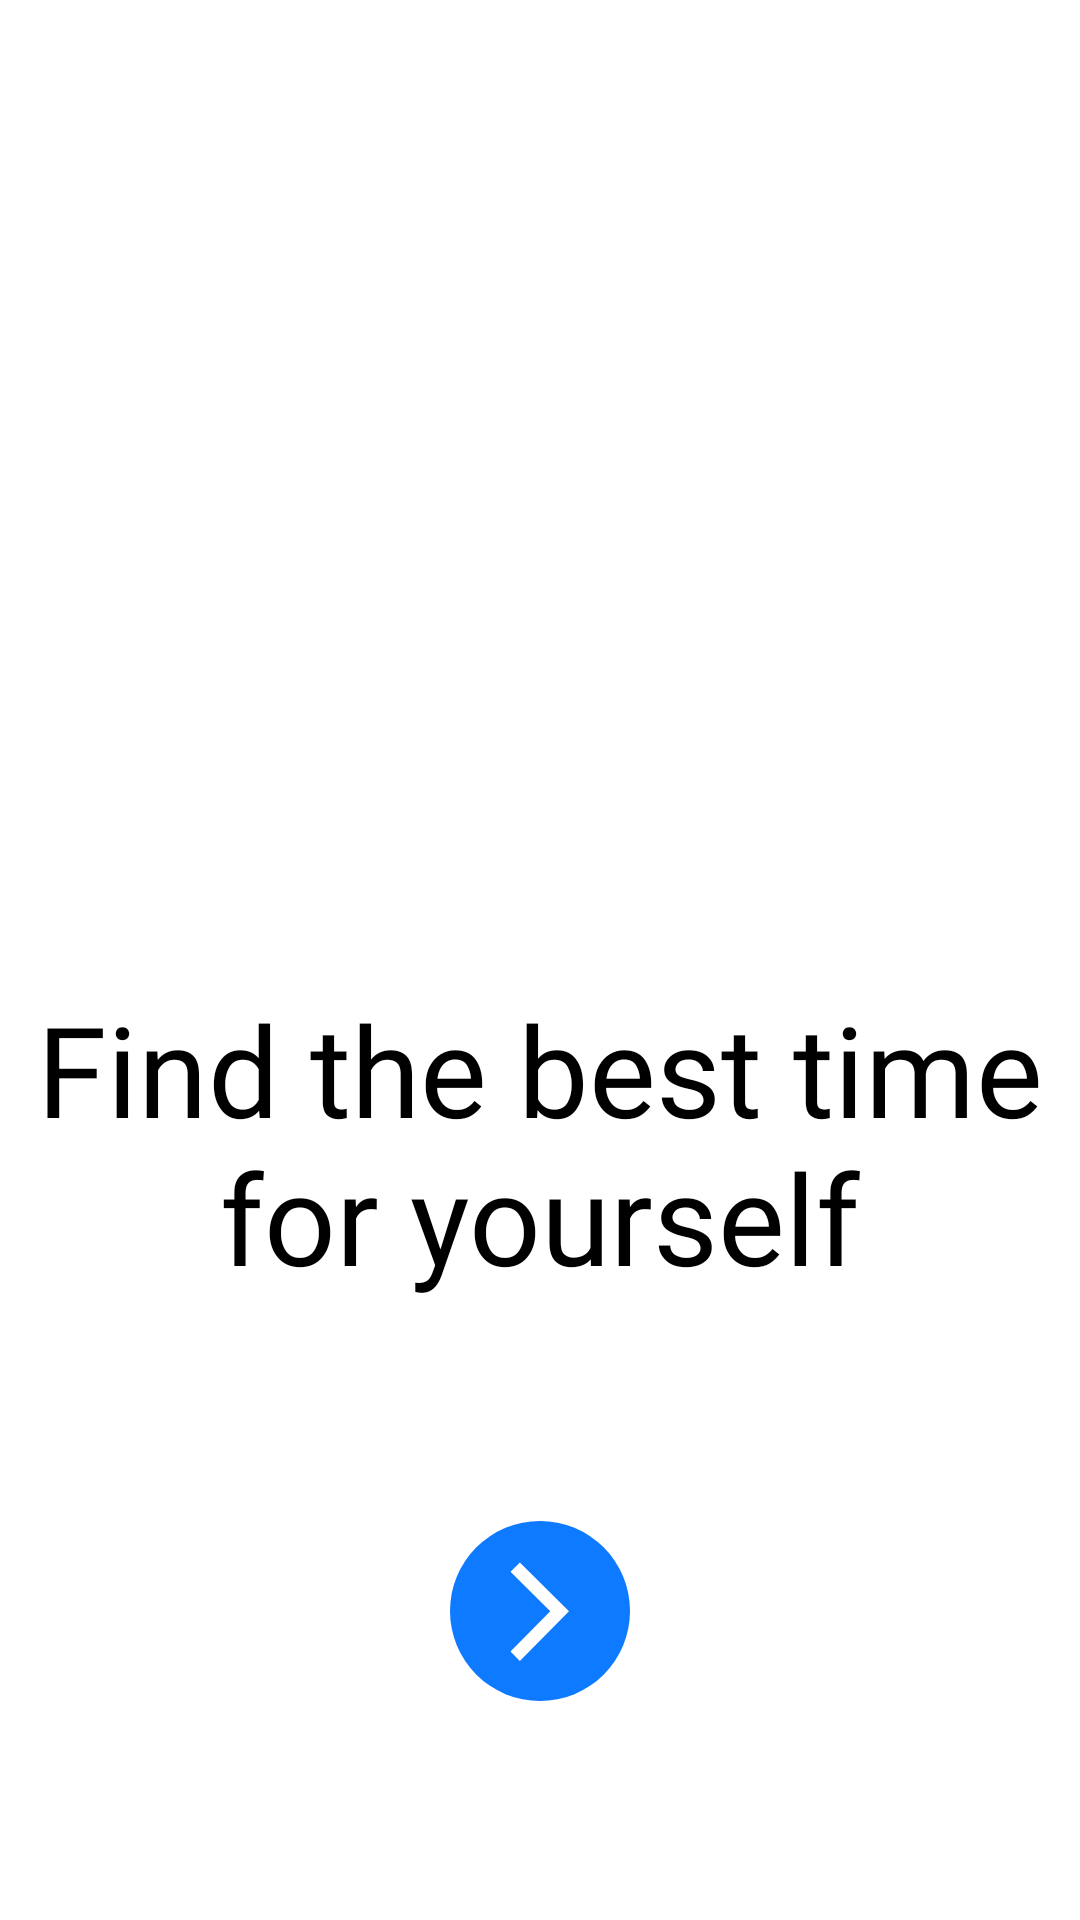

Icons on this 1080x1920 Android screen, each with its box as box=[x1, y1, x2, y2]:
next: box=[450, 1521, 630, 1701]
